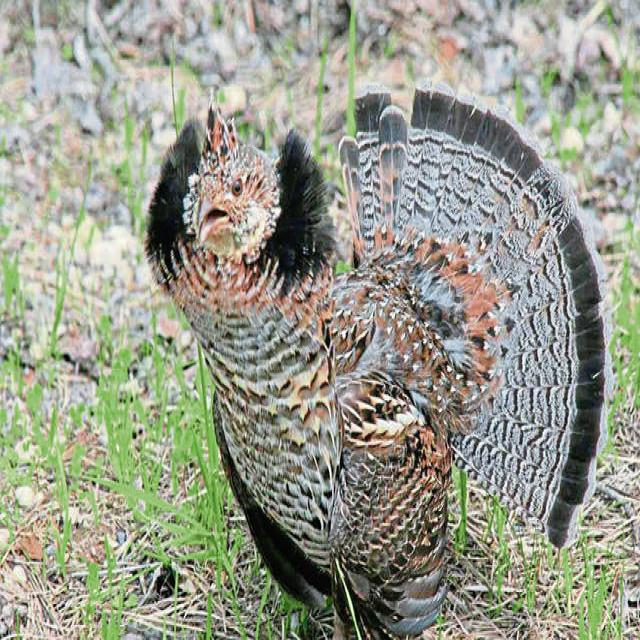bird: (143, 79, 614, 628)
